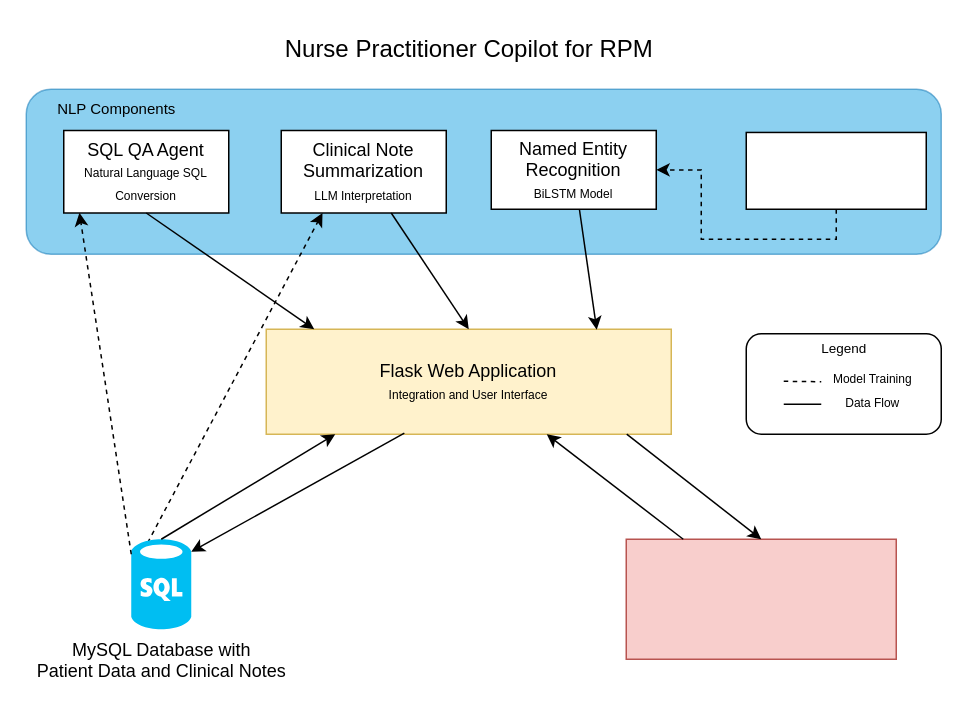
Image size: 968x708. Some labels were removed from this diagram. The shapes that lost their labels are listed below. From the top down, each one's centre as x and y in pixels, then its label:
At pixel 835 170: "NER Model Training and Eval BioWordVec Embeddings".
At pixel 760 598: "App Frontend User Interface".
